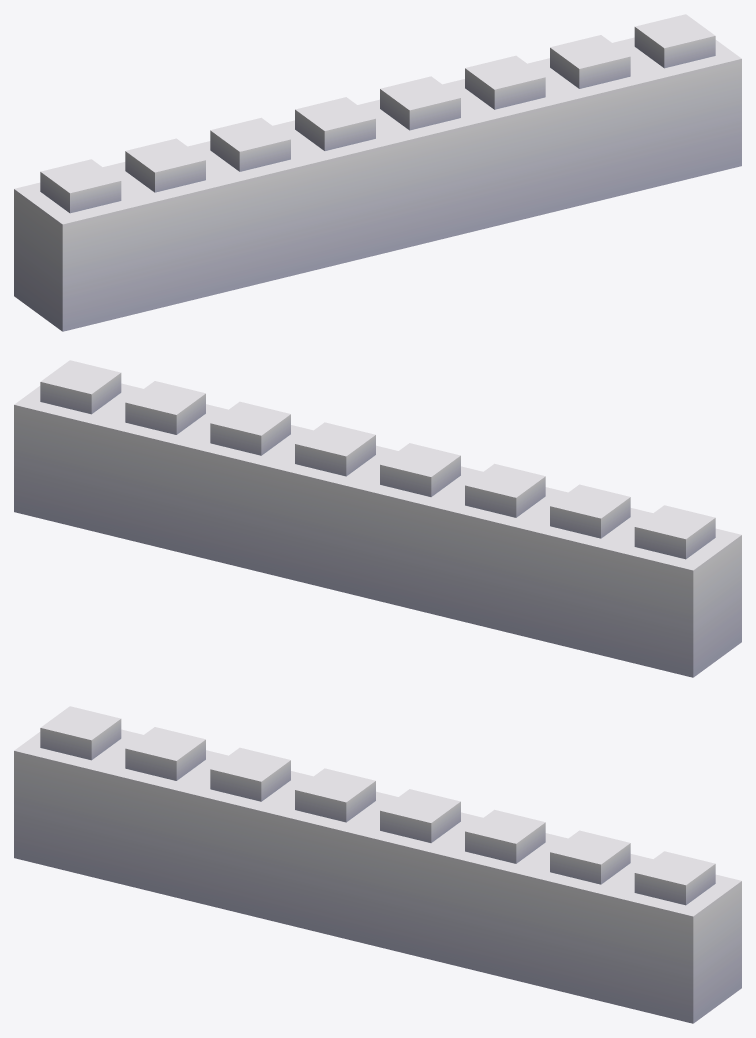
File: kenney-brick-square-lq-brick-1-x-8.glb
3 views of the same model, one above another, from view 1: azimuth 30°, elevation 25°; view 2: azimuth 150°, elevation 25°; view 3: azimuth 330°, elevation 25° (orthographic).
Parts seen in each view (by area): view 1: square-lq-brick-1x8; view 2: square-lq-brick-1x8; view 3: square-lq-brick-1x8.
Boxes of the visible parts, left/top/right/bottom form: square-lq-brick-1x8: left=14, top=14, right=741, bottom=331; square-lq-brick-1x8: left=14, top=360, right=741, bottom=677; square-lq-brick-1x8: left=14, top=706, right=741, bottom=1023.
Size of the model in its own units: 0.636 by 0.114 by 0.079.
1 material, 1 textured.
